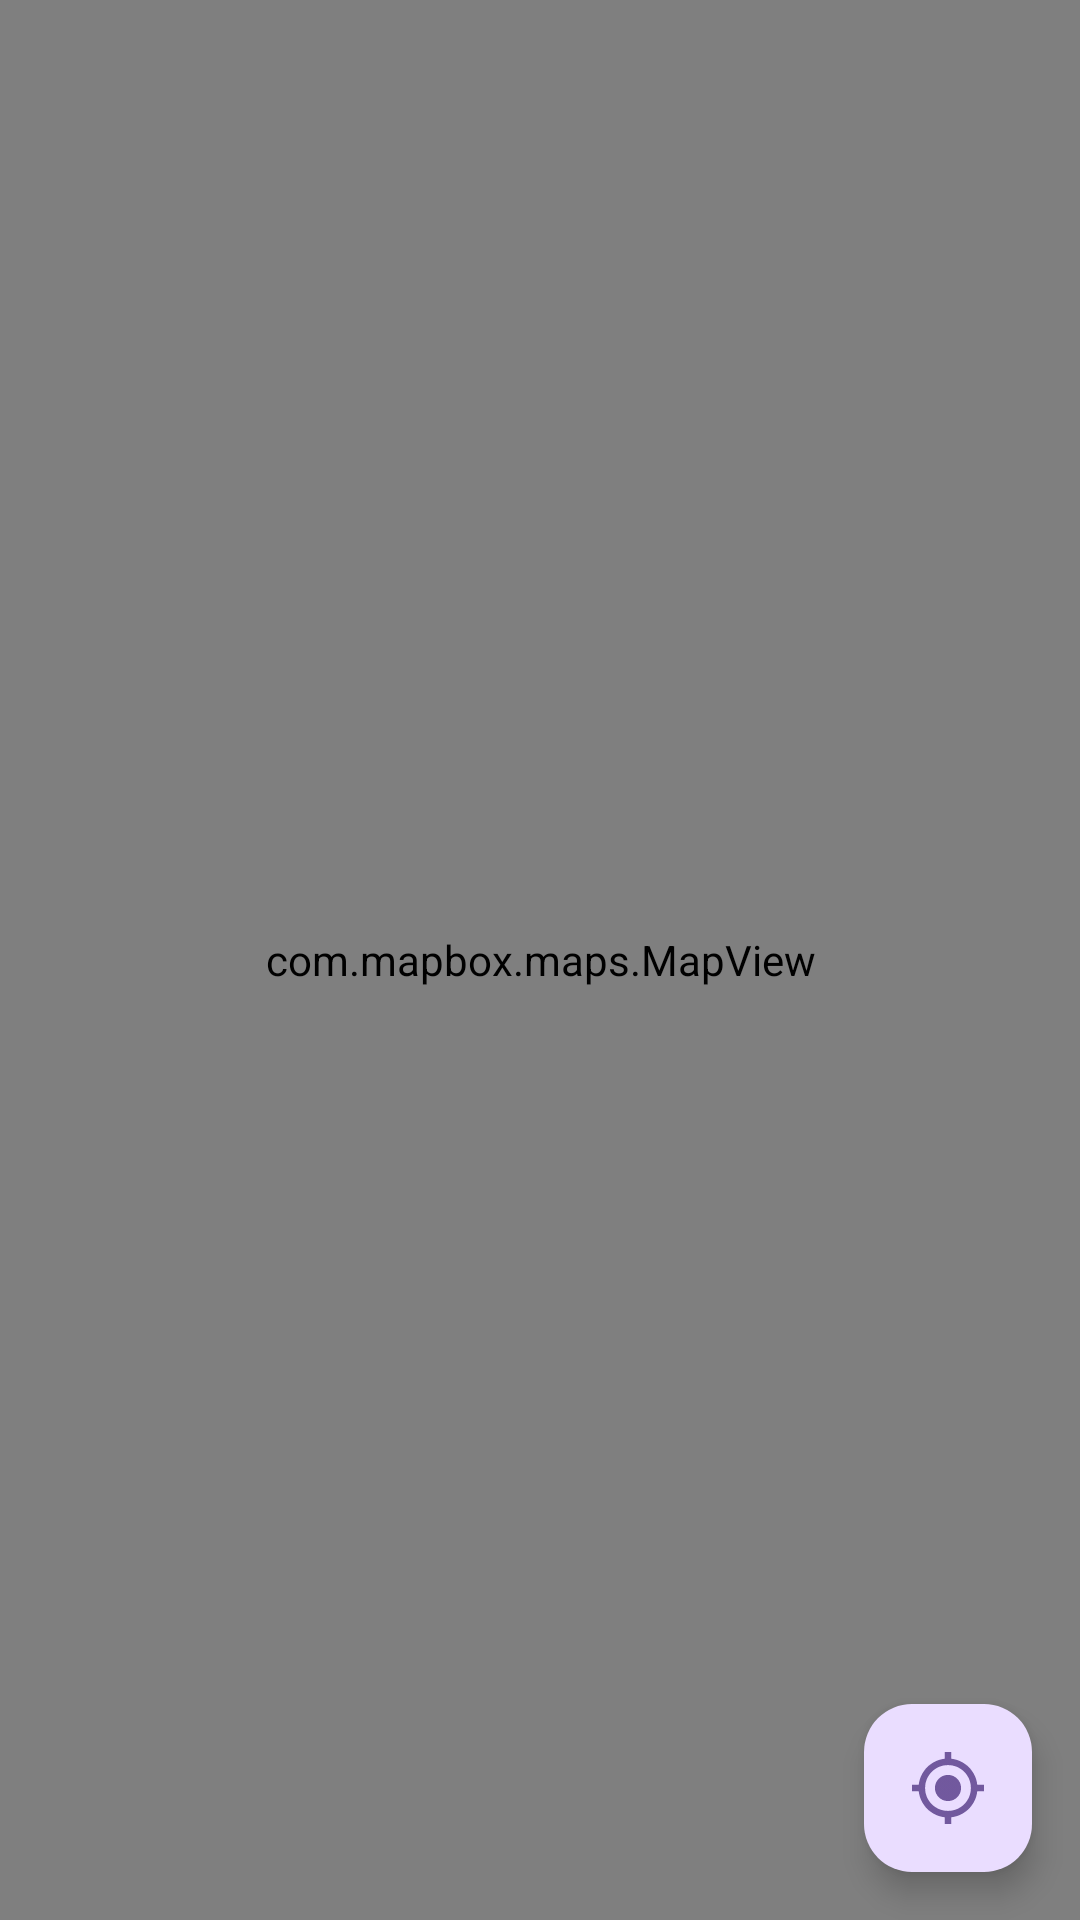

Icon click points for this 1080 x 1920 phone screenshot, format (x=x, y=y):
Go to my location: (x=948, y=1788)
